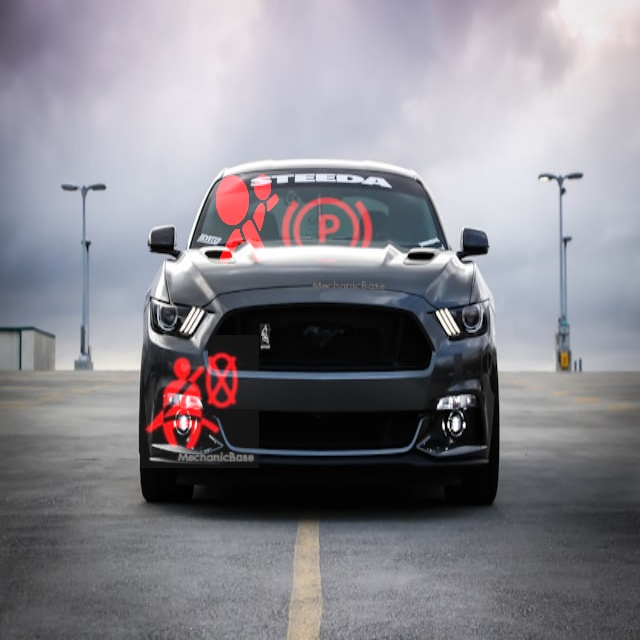symbol: (126, 335, 259, 468), (262, 168, 390, 296), (182, 156, 304, 278)
